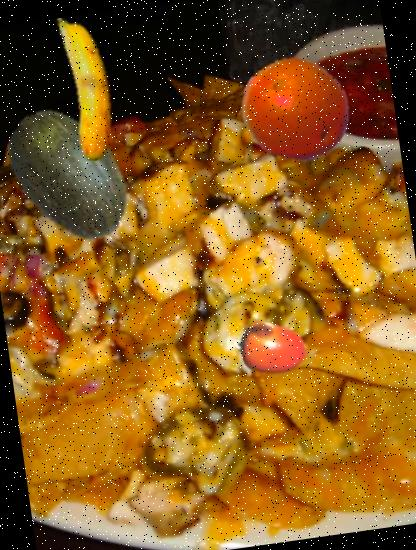Banana: (3, 10, 163, 170)
Kaki: (233, 310, 312, 389)
Melon: (0, 93, 151, 257)
Tangelo: (234, 48, 358, 172)
